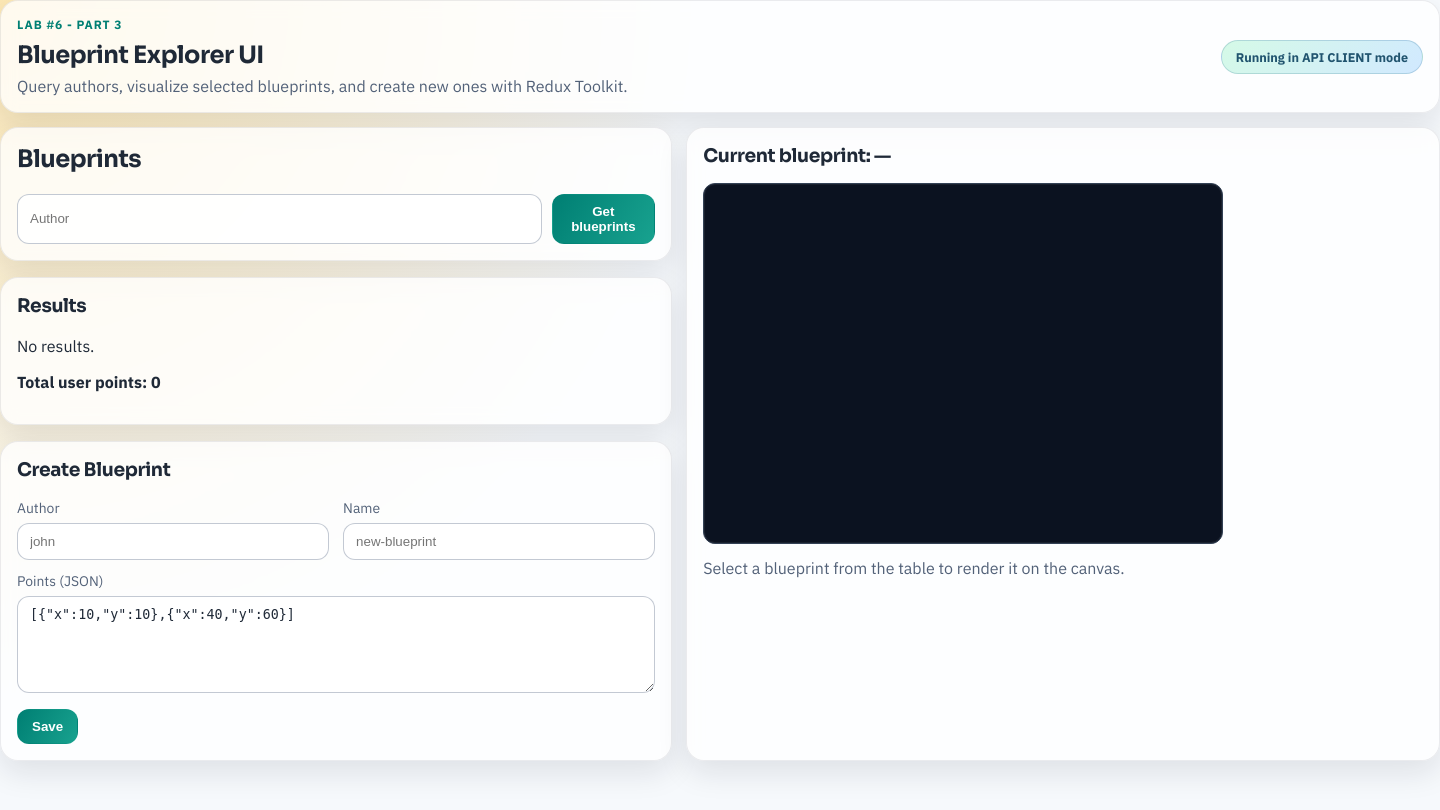
Test case: BlueprintsPage › renders authors datalist and zero points fallback in table
Type "john" into the 1st field with placeholder "Author" at (279, 219), box x1=17 y1=194 x2=542 y2=244
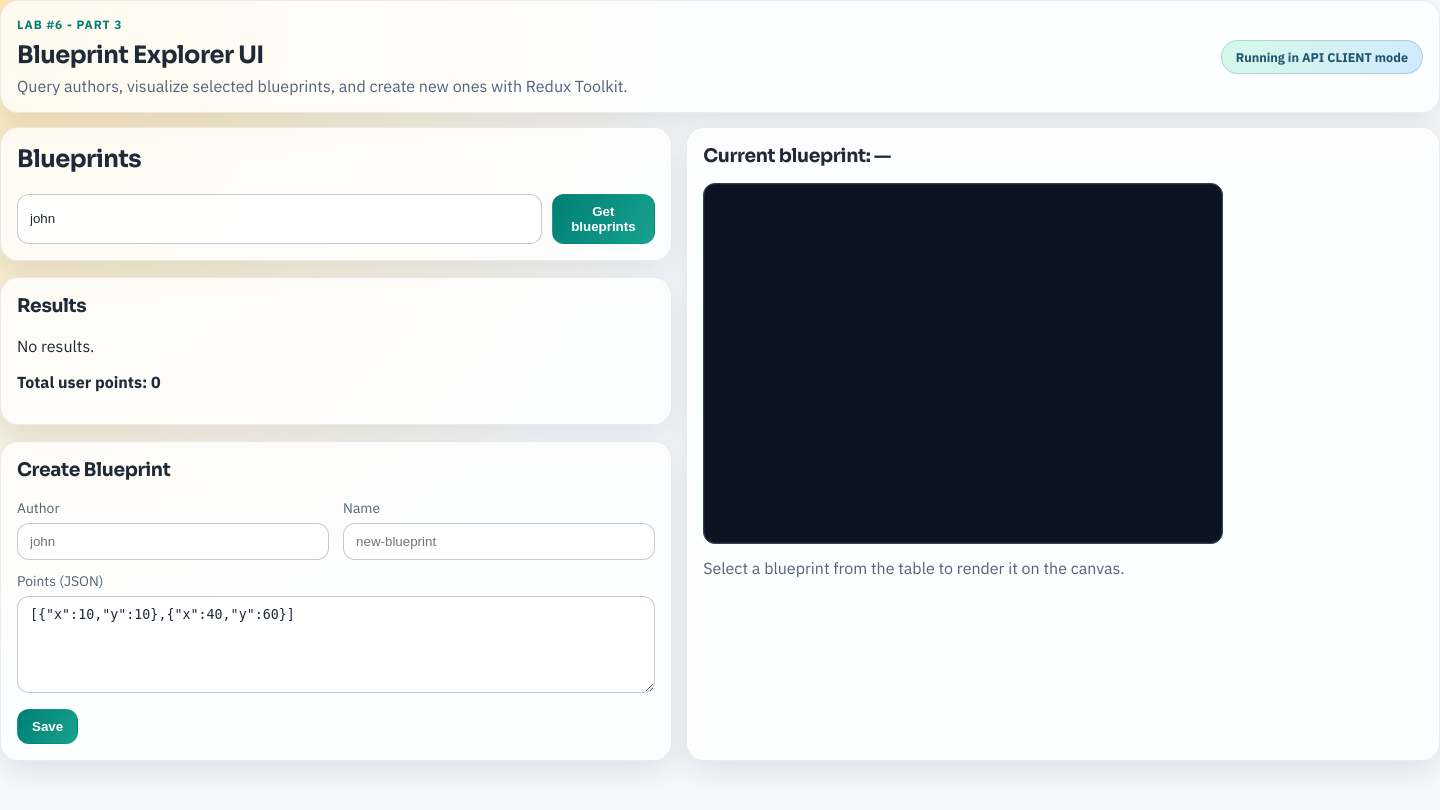
Click the button "Get blueprints" at (603, 219), box x1=552 y1=194 x2=655 y2=244
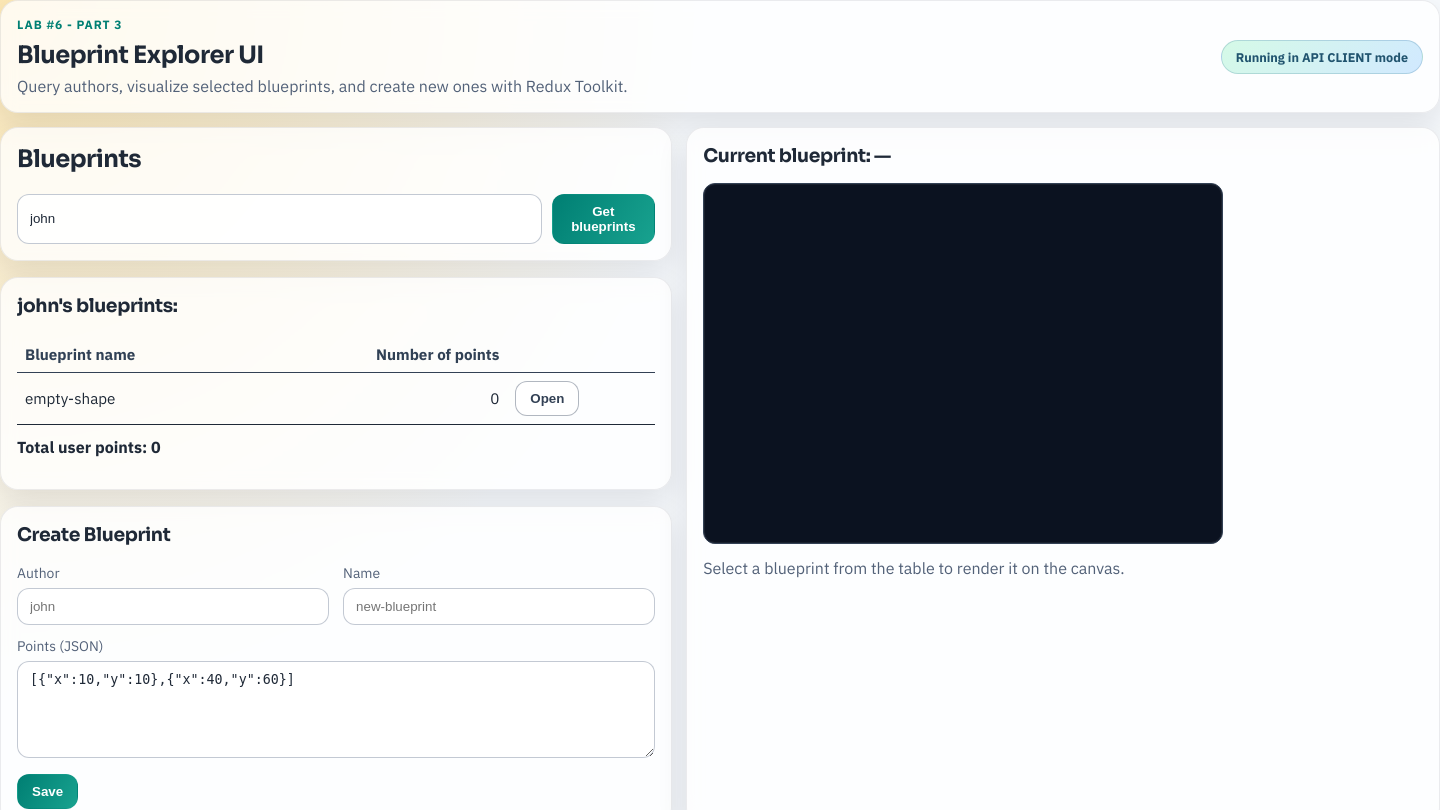
Now the text "0" is shown, box x1=250 y1=372 x2=507 y2=424
